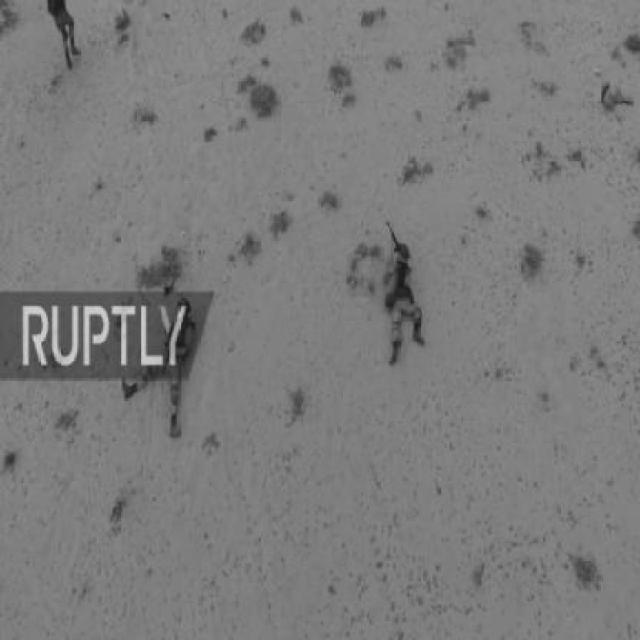Person: (384, 219, 426, 368), (49, 1, 83, 72)
